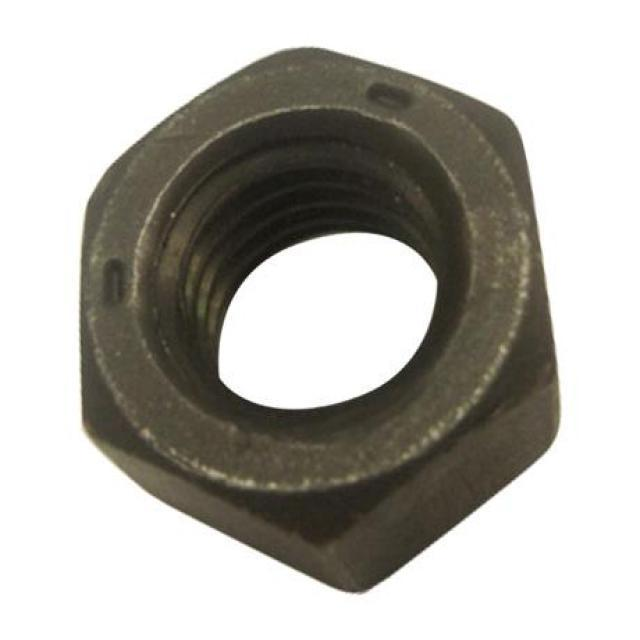Dry Waste: (24, 41, 590, 614)
